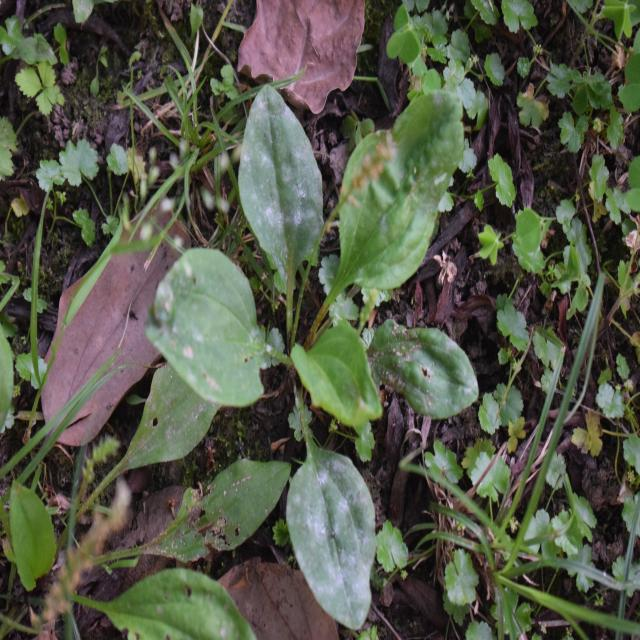plantain: (160, 91, 465, 565)
